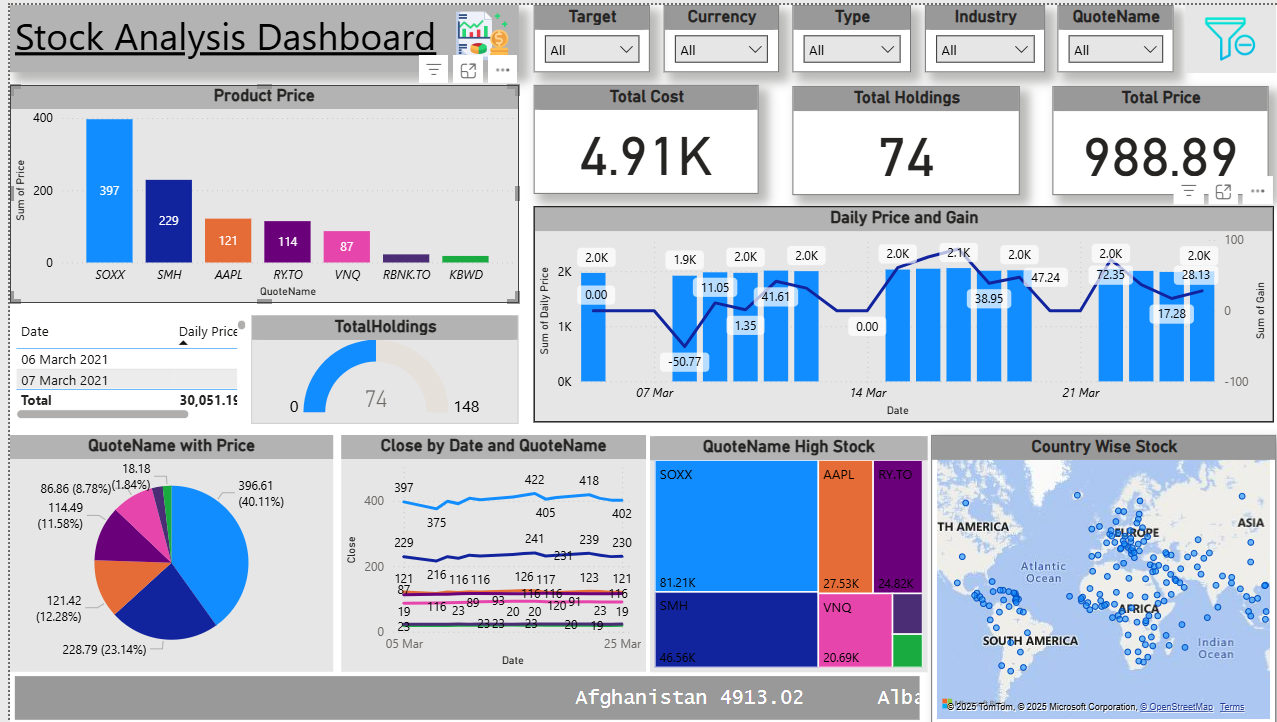

The page's visual inventory and layout, read from the dashboard file:
{"tool":"powerbi","page":{"name":"Page 1","canvas":[1280,720],"ordinal":0},"visuals":[{"type":"textbox","box":[0,0,508.8,67.5],"z":0},{"type":"image","box":[385,0,175,67.5],"z":1000},{"type":"slicer","title":"Currency","fields":{"Values":["Type.Currency"]},"box":[653.8,0,115,67.5],"z":2000},{"type":"slicer","title":"Type","fields":{"Values":["Type.Type"]},"box":[782.5,0,118.8,67.5],"z":3000},{"type":"slicer","title":"Industry","fields":{"Values":["Type.Industry"]},"box":[915,0,120,67.5],"z":4000},{"type":"slicer","title":"QuoteName","fields":{"Values":["Type.QuoteName"]},"box":[1047.5,0,116.2,67.5],"z":5000},{"type":"slicer","title":"Target","fields":{"Values":["Type.Target"]},"box":[523.8,0,116.2,67.5],"z":6000},{"type":"image","box":[1175.1,0,90.8,68.1],"z":7000},{"type":"columnChart","title":"Product Price","fields":{"Category":["holdings.QuoteName"],"Y":["Sum(holdings.Price)"],"Series":["holdings.QuoteName"]},"box":[0,80,508.8,217.5],"z":8000},{"type":"card","title":"Total Cost","fields":{"Values":["Sum(holdings.Cost)"]},"box":[523.8,80,225,108.8],"z":9000},{"type":"card","title":"Total Holdings","fields":{"Values":["Sum(holdings.Holdings)"]},"box":[782.5,81.2,227.5,108.8],"z":10000},{"type":"card","title":"Total Price","fields":{"Values":["Sum(holdings.Price)"]},"box":[1042.5,81.2,216.2,108.8],"z":11000},{"type":"lineClusteredColumnComboChart","title":"Daily Price and Gain","fields":{"Category":["dailygain.Date"],"Y":["Sum(dailygain.Daily Price)"],"Y2":["Sum(dailygain.Gain)"]},"box":[523.5,201.6,739.8,216.3],"z":12000},{"type":"tableEx","fields":{"Values":["dailygain.Date","Sum(dailygain.Daily Price)","Sum(dailygain.Gain)"]},"box":[0,310,241.2,108.8],"z":13000},{"type":"gauge","title":"TotalHoldings","fields":{"Y":["Sum(holdings.Holdings)"]},"box":[241.2,310,267.5,108.8],"z":14000},{"type":"map","title":"Country Wise Stock","fields":{"Category":["country data.Country"]},"box":[921.4,430,344.5,289.8],"z":15000},{"type":"ScrollingTextVisual1448795304508","fields":{"Category":["country data.Country"],"Measure Absolute":["Sum(holdings.Cost)"]},"box":[0,666.7,915,53.3],"z":16000},{"type":"pieChart","title":"QuoteName with Price","fields":{"Y":["Sum(holdings.Price)"],"Category":["holdings.QuoteName"]},"box":[0,430,323.3,236.7],"z":17000},{"type":"lineChart","fields":{"Category":["dailygain.Date"],"Y":["Sum(Stock.Close)"],"Series":["holdings.QuoteName"]},"box":[331.7,430,305,236.7],"z":18000},{"type":"treemap","title":"QuoteName High Stock","fields":{"Group":["Stock.QuoteName"],"Values":["Sum(Stock.High)"]},"box":[639.6,431.3,277.8,236.4],"z":19000}]}

Visuals, with their boxes in screenshot pixels (x1, y1, x2, y2), scaled from the page's 1280x720 canvas onto the 1277x722 screenshot:
textbox: rect(0, 0, 508, 68)
image: rect(384, 0, 559, 68)
"Currency" slicer: rect(652, 0, 767, 68)
"Type" slicer: rect(781, 0, 899, 68)
"Industry" slicer: rect(913, 0, 1033, 68)
"QuoteName" slicer: rect(1045, 0, 1161, 68)
"Target" slicer: rect(523, 0, 638, 68)
image: rect(1172, 0, 1263, 68)
"Product Price" columnChart: rect(0, 80, 508, 298)
"Total Cost" card: rect(523, 80, 747, 189)
"Total Holdings" card: rect(781, 81, 1008, 191)
"Total Price" card: rect(1040, 81, 1256, 191)
"Daily Price and Gain" lineClusteredColumnComboChart: rect(522, 202, 1260, 419)
tableEx - dailygain.Date x Sum(dailygain.Daily Price): rect(0, 311, 241, 420)
"TotalHoldings" gauge: rect(241, 311, 508, 420)
"Country Wise Stock" map: rect(919, 431, 1263, 721)
ScrollingTextVisual1448795304508 - country data.Country x Sum(holdings.Cost): rect(0, 669, 913, 721)
"QuoteName with Price" pieChart: rect(0, 431, 323, 669)
lineChart - dailygain.Date x Sum(Stock.Close): rect(331, 431, 635, 669)
"QuoteName High Stock" treemap: rect(638, 432, 915, 670)
